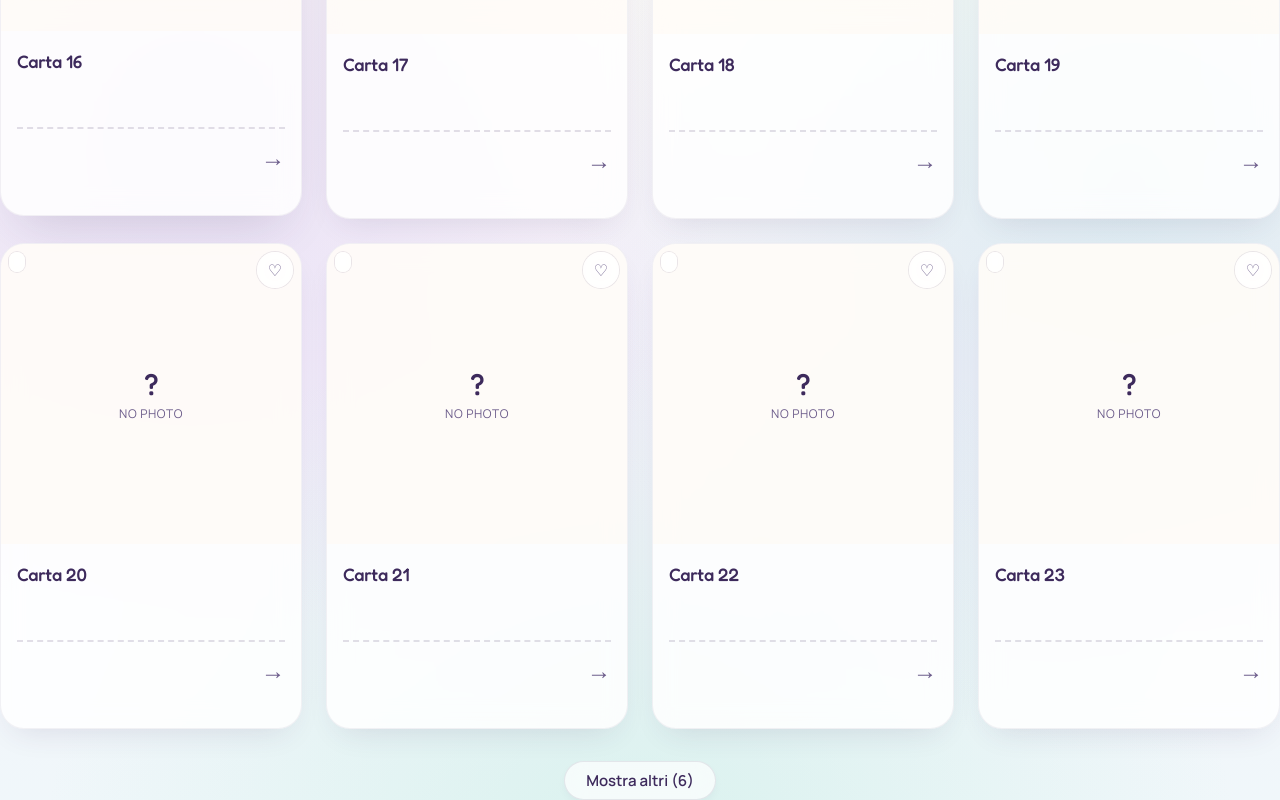
Test case: CatalogSection › mostra la prima pagina del server e chiede la successiva
(page scrolled)
Click the button "Mostra altri (6)". click: (640, 780)
box: [564, 761, 716, 799]
(page scrolled)
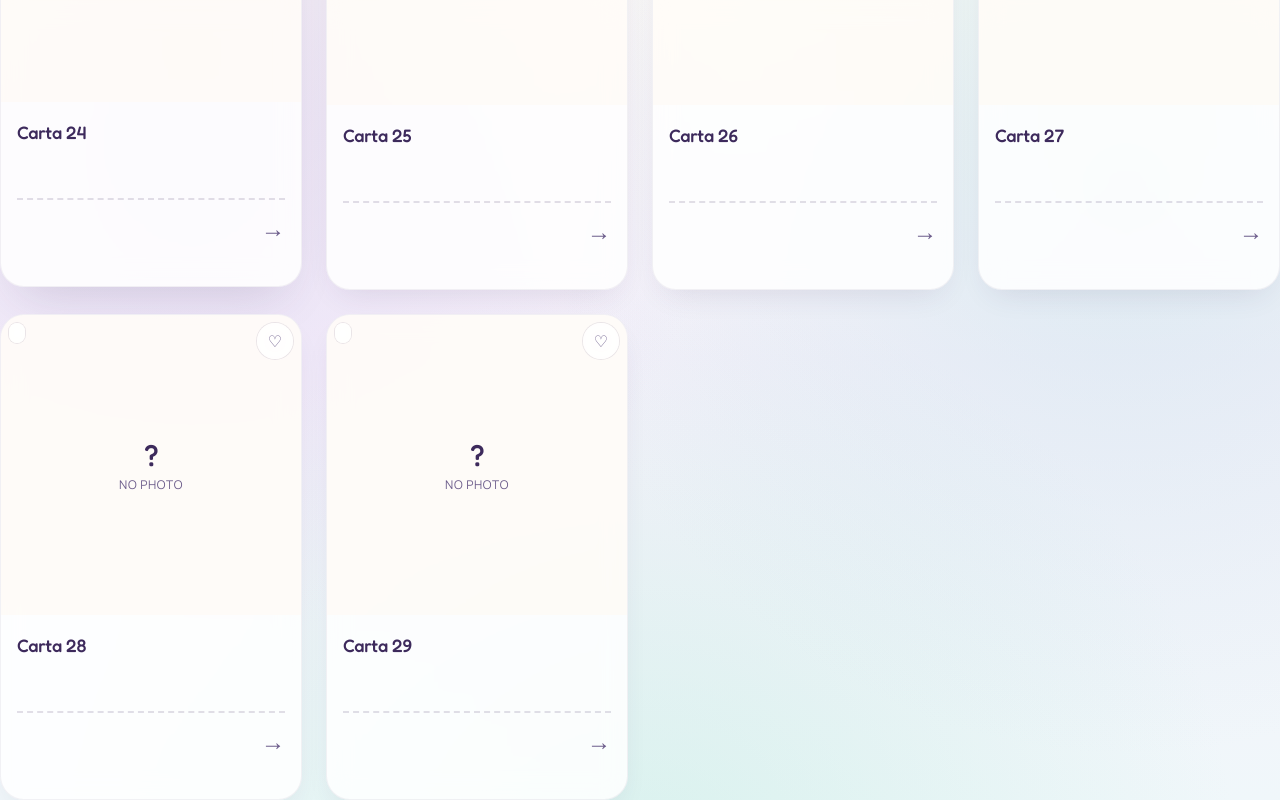
Expected: the heading "Carta 29" is shown, [343, 634, 412, 656]
Expected: the button "Mostra altri" is gone
